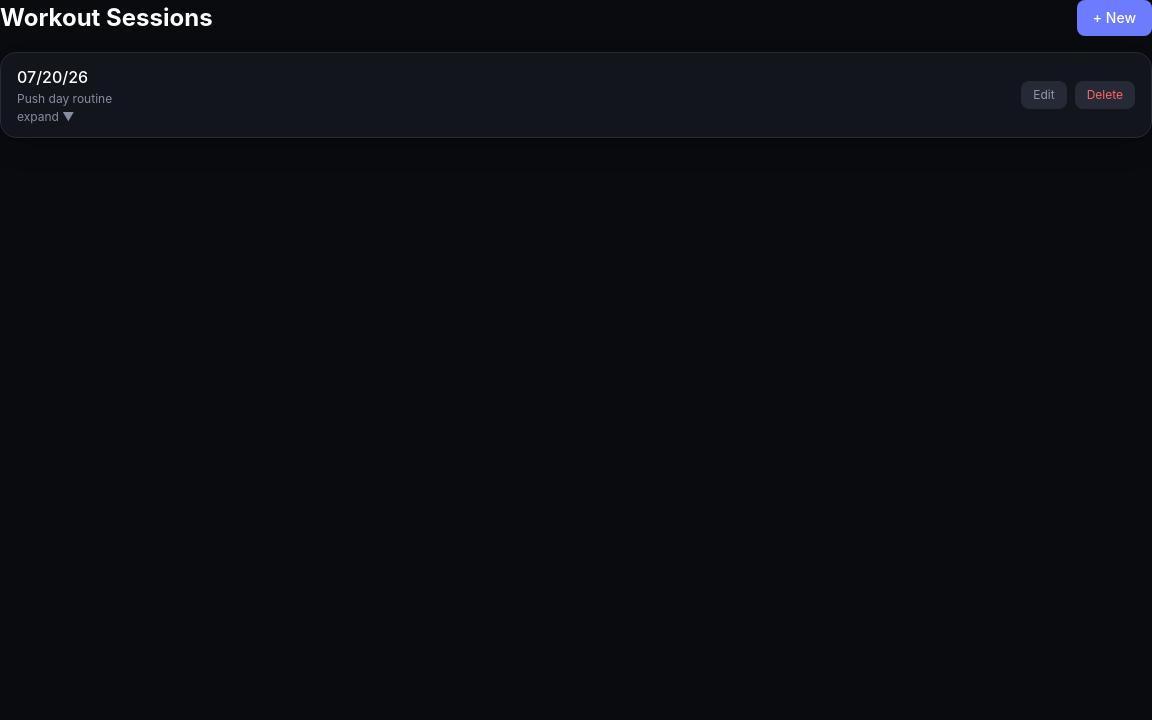
Test: WorkoutSessionsPage editing › saves a corrected set through the update endpoint
Click the button "Edit" at (1044, 95), box [1021,81,1067,109]
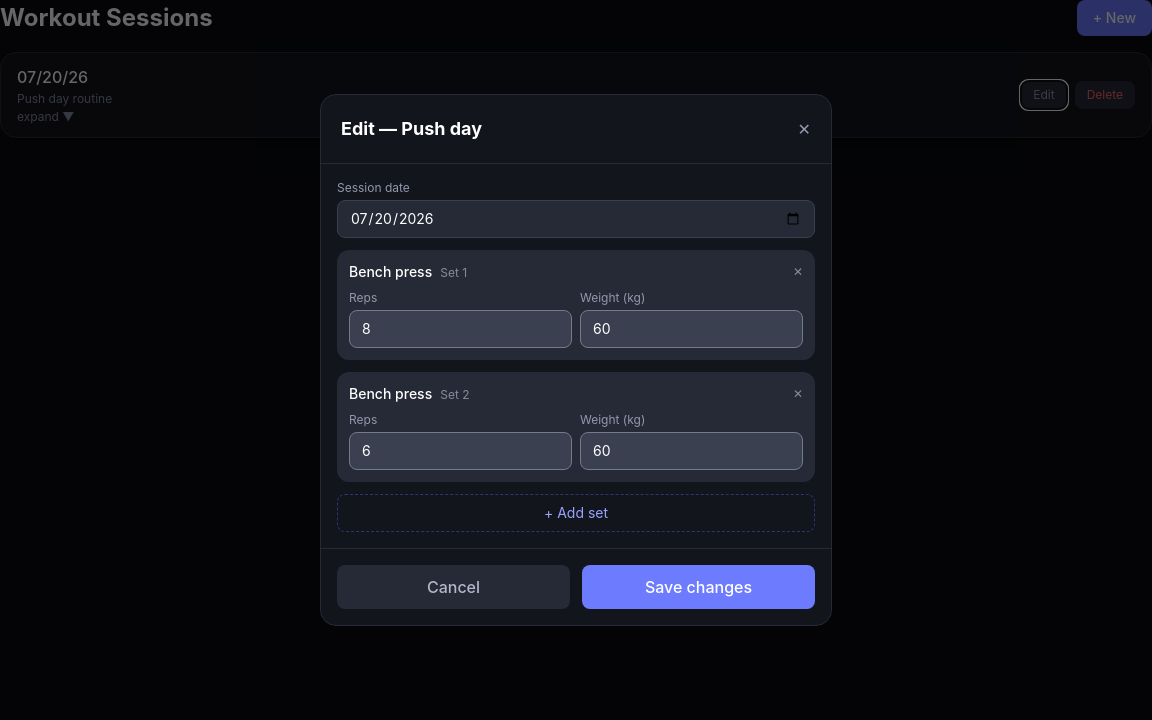
Replace the text in the 2nd number field labelled "Reps" with "7" at (460, 451), box [349,432,572,470]
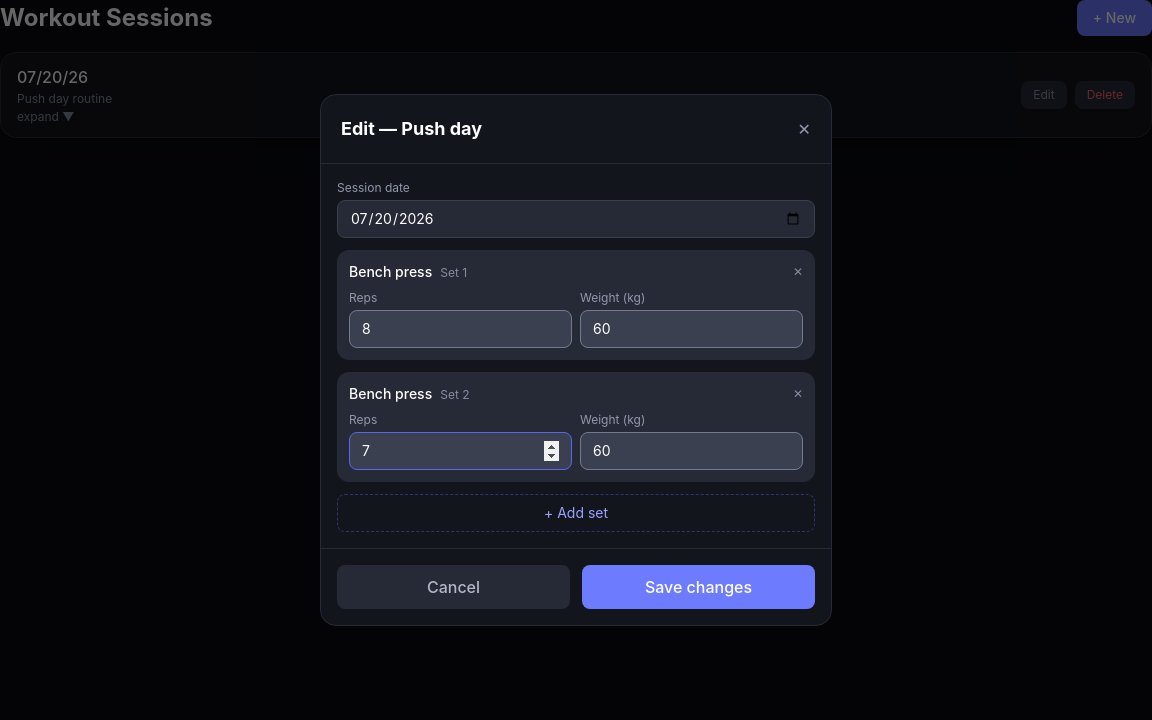
Click the button "Save changes" at (698, 587), box [582,565,815,609]
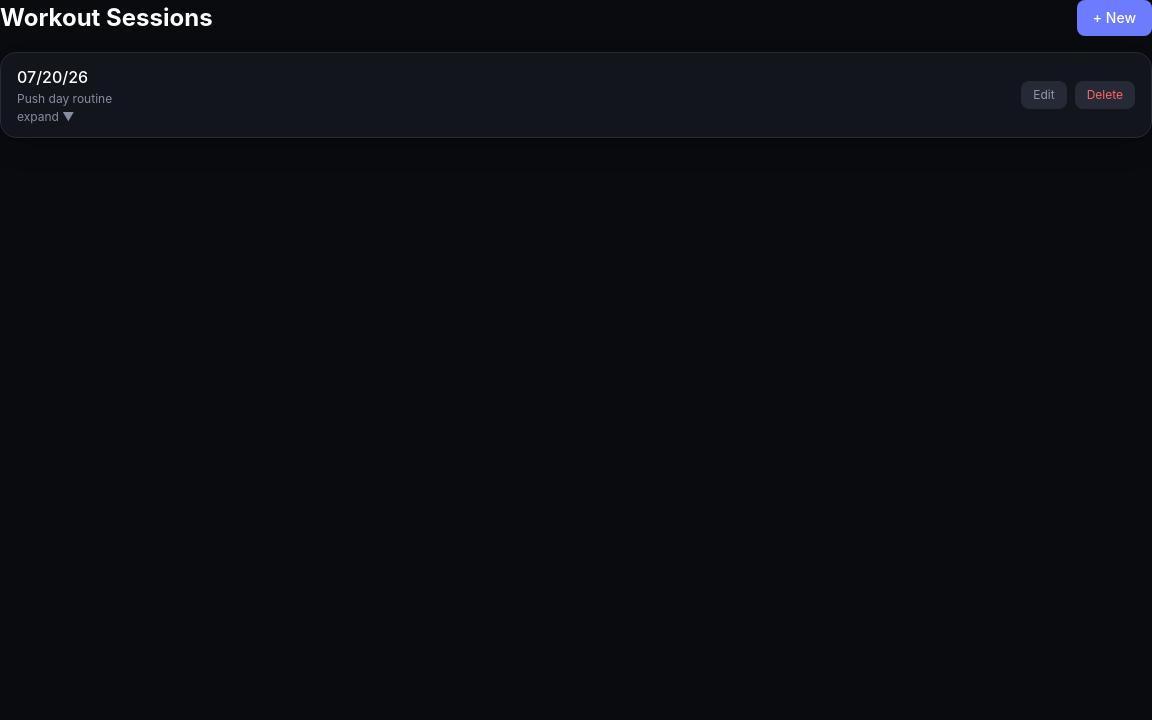
Check: the button "Save changes" is gone
// The card reflects the correction without a refetch.
Click the text "Push day routine" at (65, 98), box [17,91,112,106]
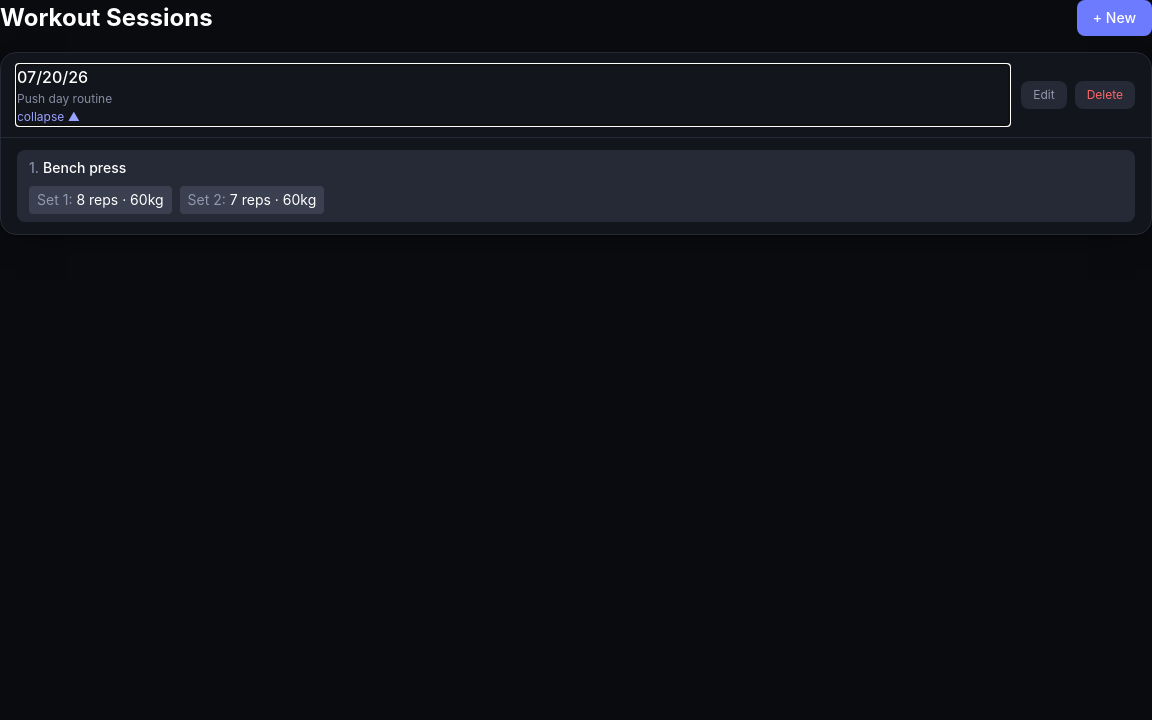
Check: the text "7 reps · 60kg" is shown, box [230,190,316,210]
